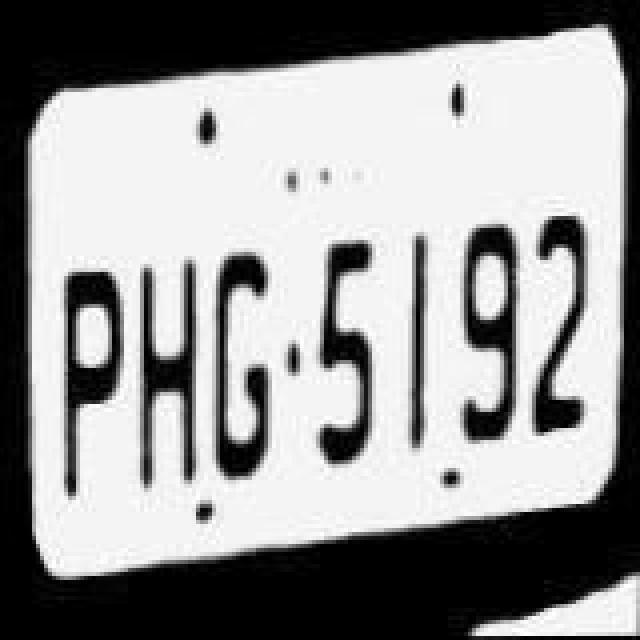1: (388, 206, 448, 466)
2: (522, 202, 594, 470)
5: (306, 228, 386, 480)
9: (448, 194, 524, 462)
G: (208, 238, 284, 490)
H: (132, 248, 208, 500)
P: (36, 246, 124, 506)
